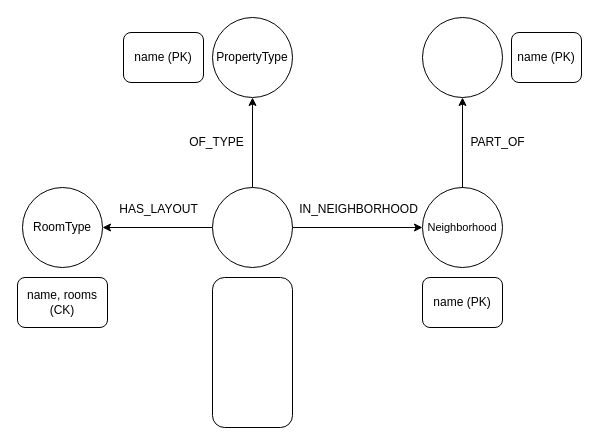
Image size: 599x445. Some labels were removed from this diagram. The box of each missing label's shape, as (x1, y1, x2, y2) in pixels:
City: (422, 16, 502, 98)
id (PK) name beds baths price totalArea pricePerSqft hasBalcony description: (212, 276, 292, 428)
Property: (212, 186, 292, 268)
